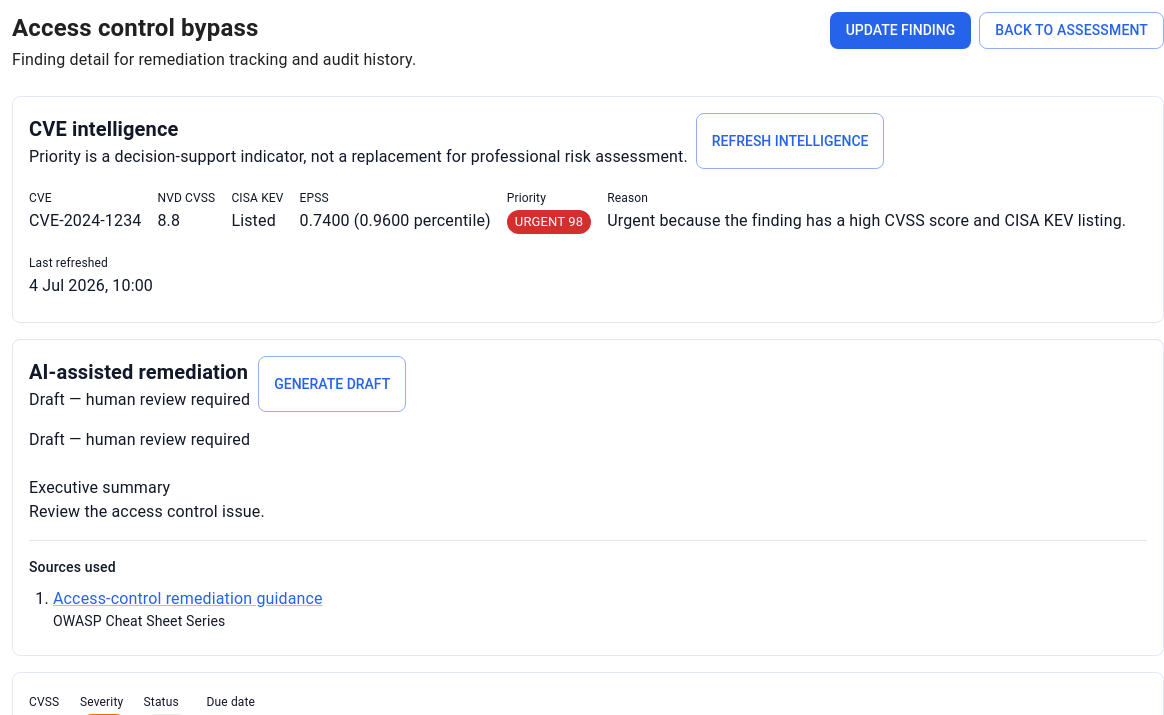
Test case: finding detail renders CVE intelligence and refreshes cached priority
The width and height of the screenshot is (1164, 715).
Check: the heading "CVE intelligence" is shown, box 29,117 -> 178,141
Check: the text "CVE-2024-1234" is shown, box 29,209 -> 141,233
Click the button "Refresh intelligence": [790, 141] box 696,113 -> 884,169
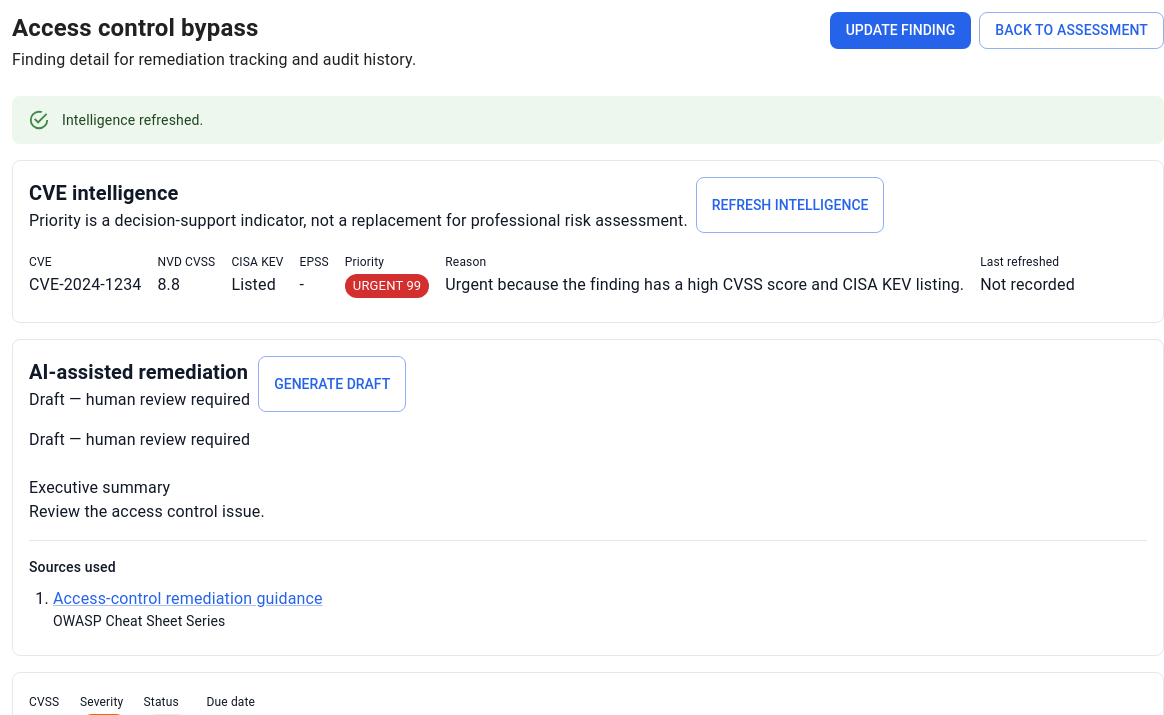
Check: the text "Intelligence refreshed." is shown, box 62,112 -> 203,128
